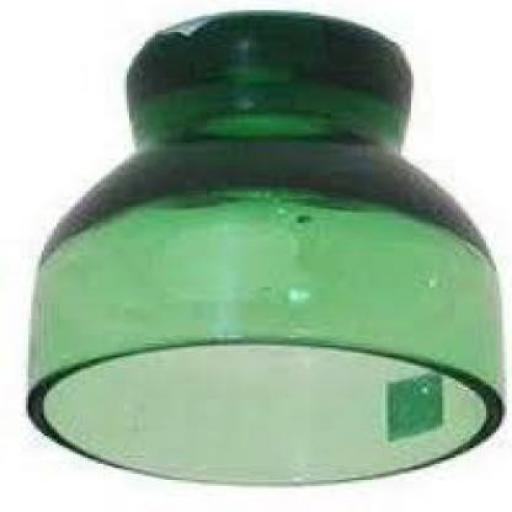glass: (26, 14, 502, 489)
